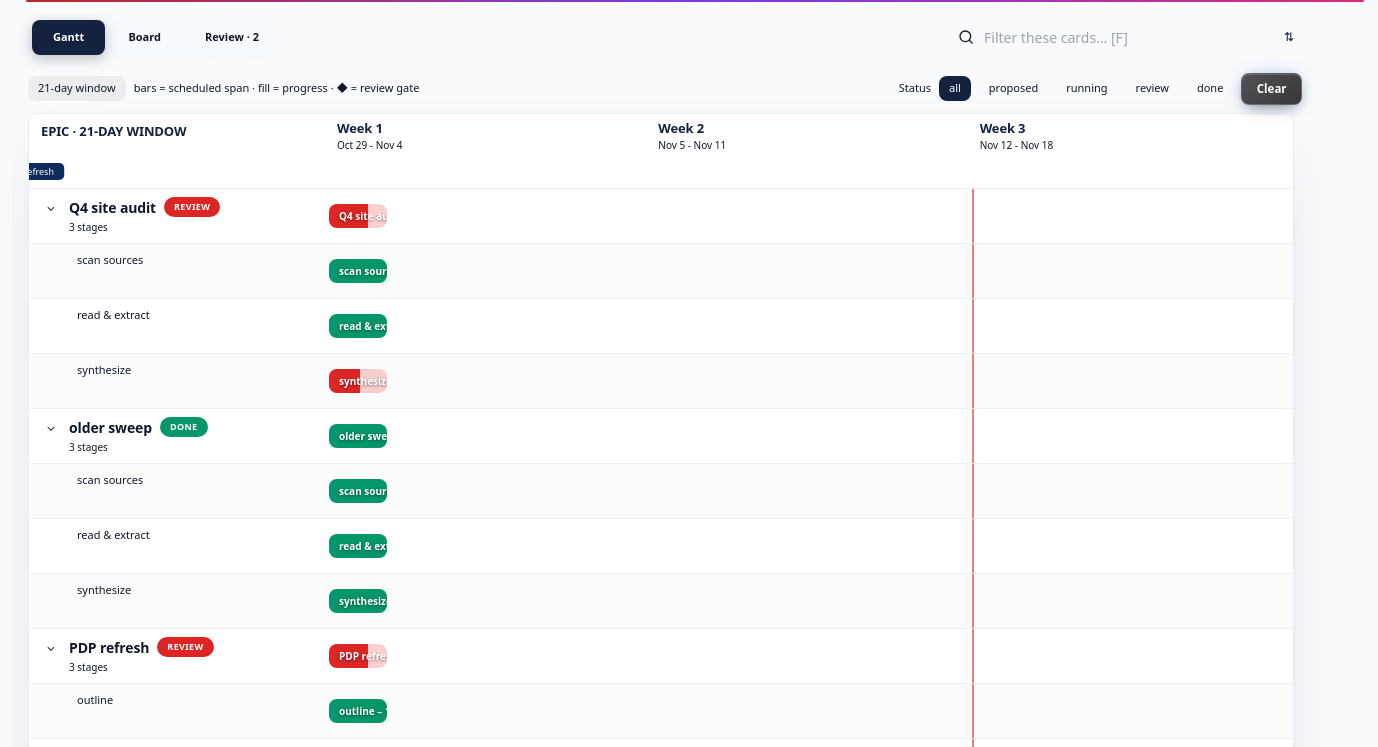
it: AssignmentsWindow · v13 win-assignments (waterfall / board / review) › board: fizzy columns — active column open, others as vpills
The width and height of the screenshot is (1378, 747).
What coordinates should you click on to do the following:
click the tab "Board"
I would click on:
 (145, 37)
Its box is 107,20 -> 182,54.
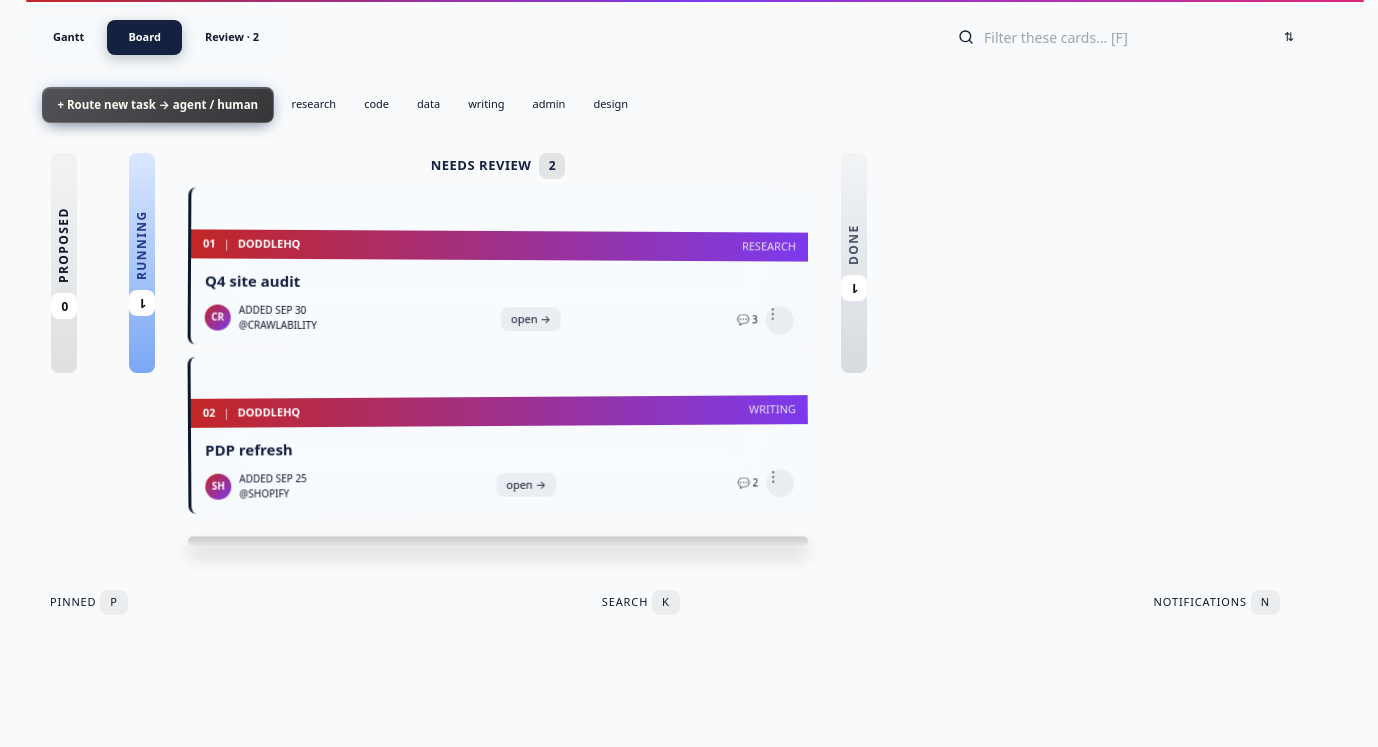
Check: the button "NEEDS REVIEW 2" is shown, box 188,152 -> 808,178
Check: the number of buttons with class "fizzy-card" is 2, box 188,187 -> 808,347; 188,353 -> 808,514
What coordinates should you click on to do the following:
click the button titled "Open DONE"
I would click on:
 (854, 262)
Its box is 841,152 -> 867,372.
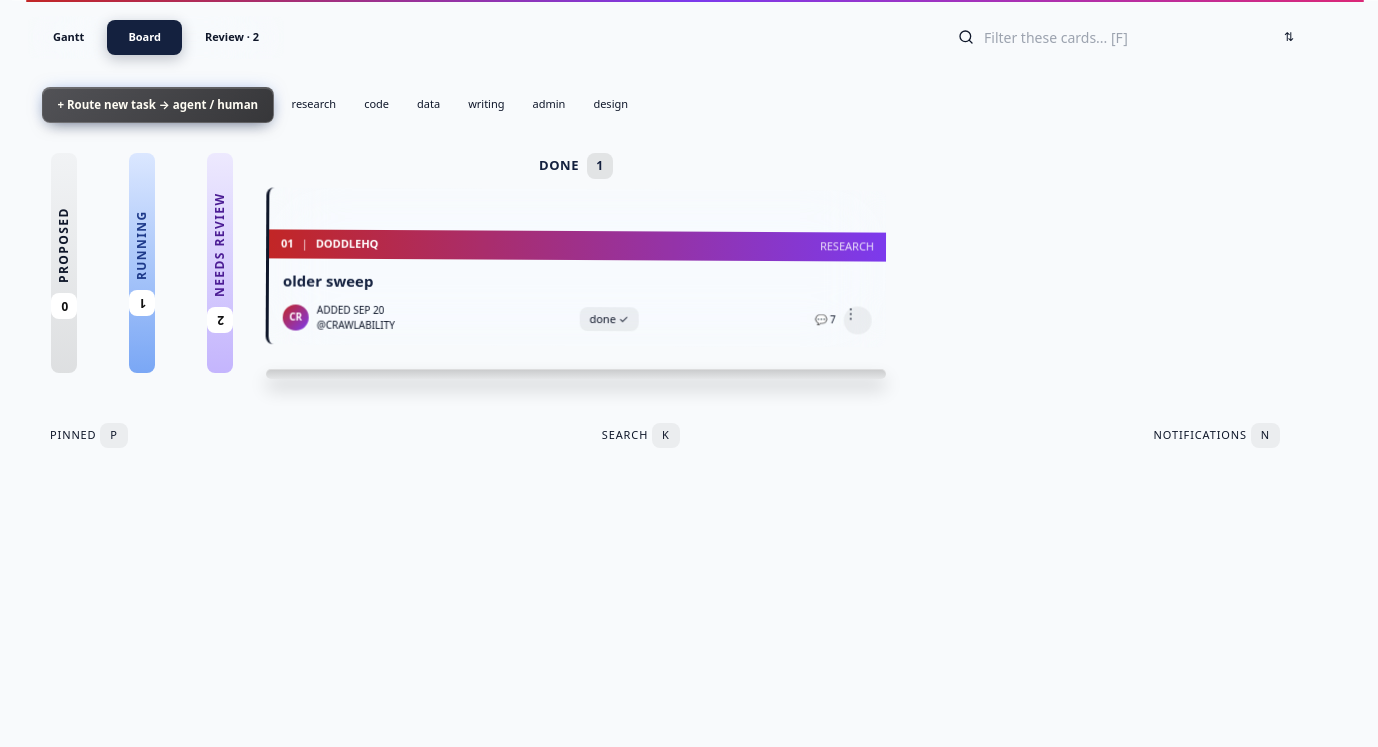
Check: the text "ADDED SEP 20@CRAWLABILITY" is shown, box 317,302 -> 395,332
Check: the number of buttons with class "fizzy-card" is 1, box 266,187 -> 886,347
What coordinates should you click on to do the following:
click the button titled "Open PROPOSED"
I would click on:
 (64, 262)
Its box is 51,152 -> 77,372.
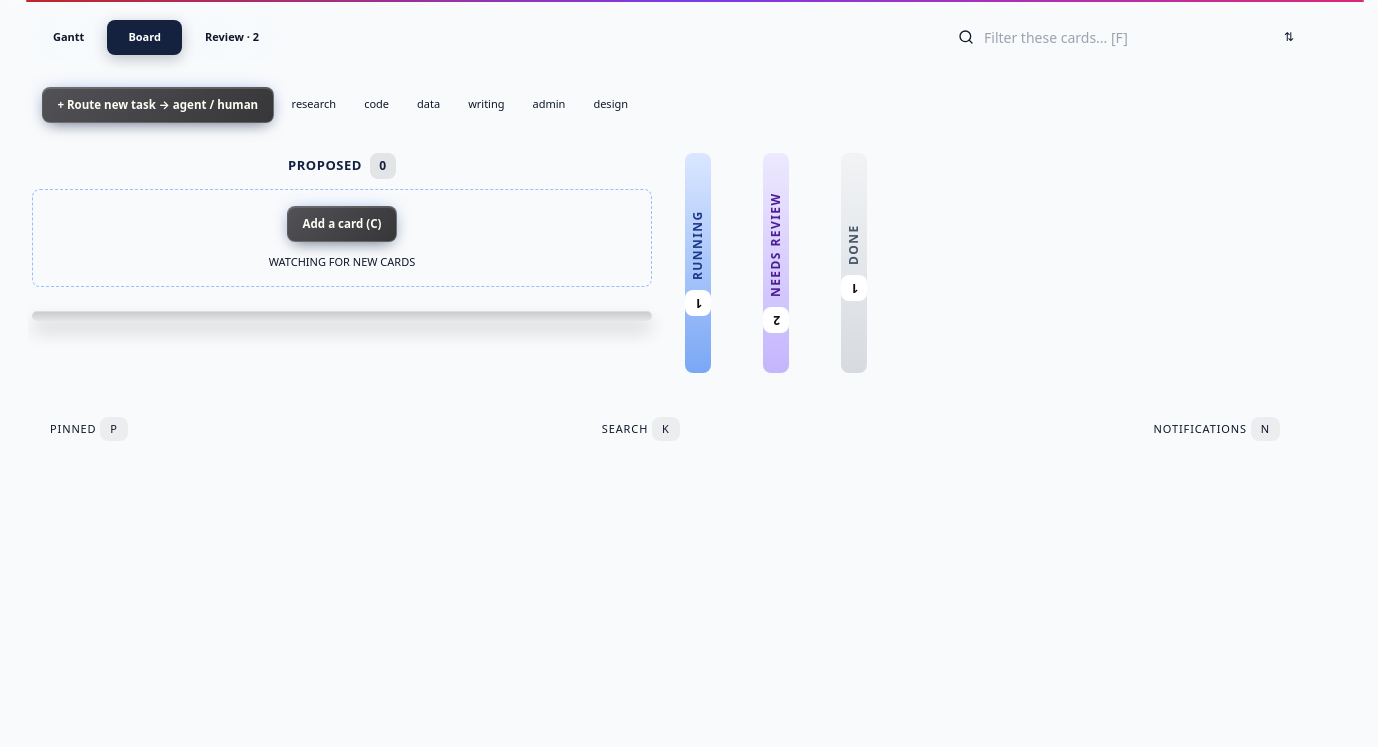
Check: the text "WATCHING FOR NEW CARDS" is shown, box 269,254 -> 415,268
